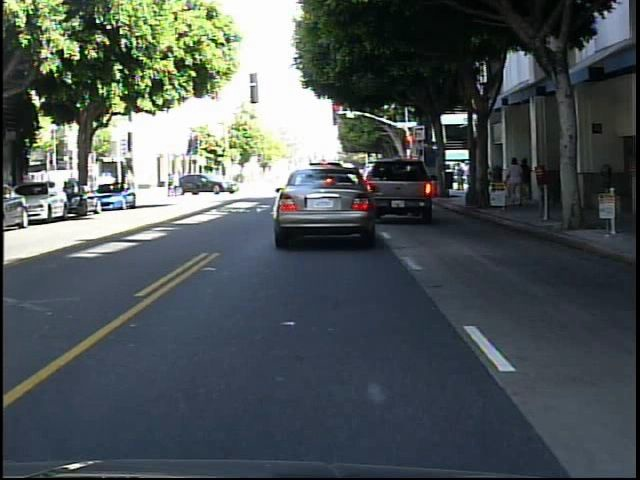person: (508, 154, 527, 209), (64, 169, 82, 209), (520, 153, 534, 204)
